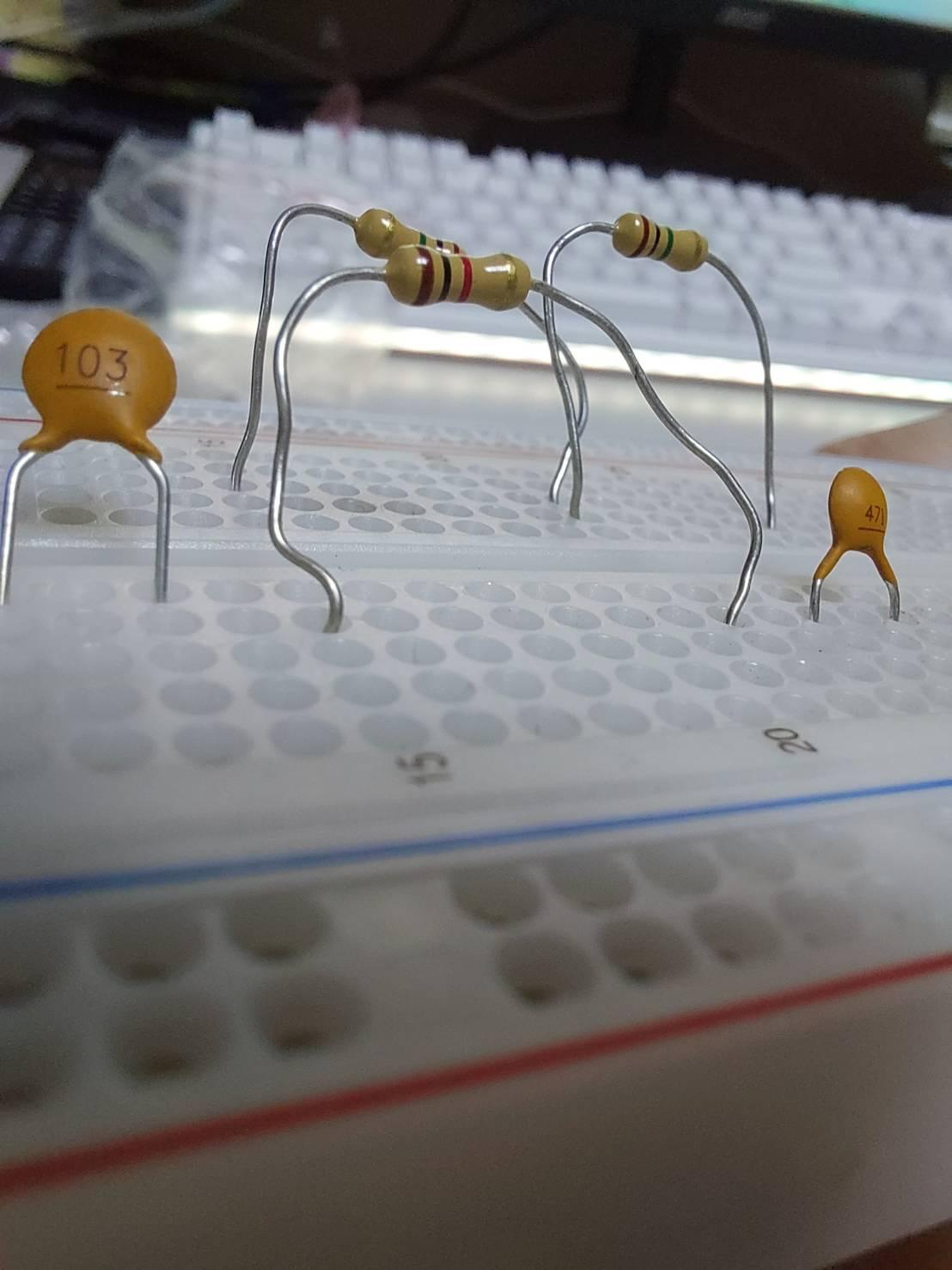resistor: (385, 252, 531, 314), (606, 205, 714, 268)
